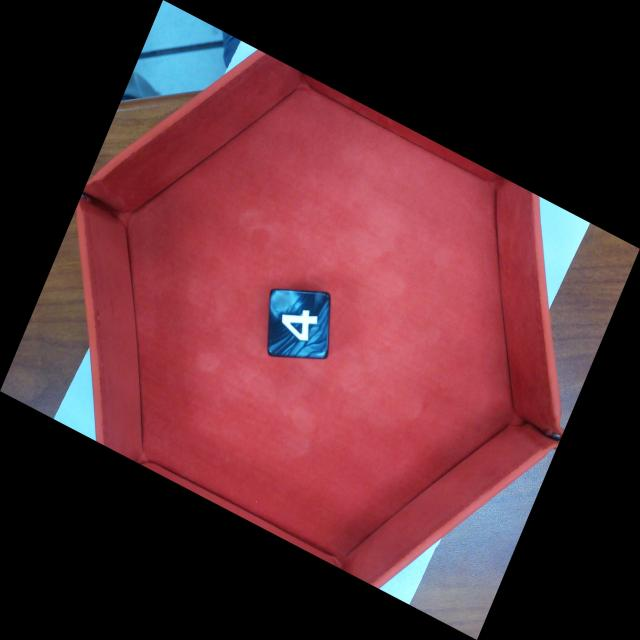dice: (270, 291, 329, 357)
